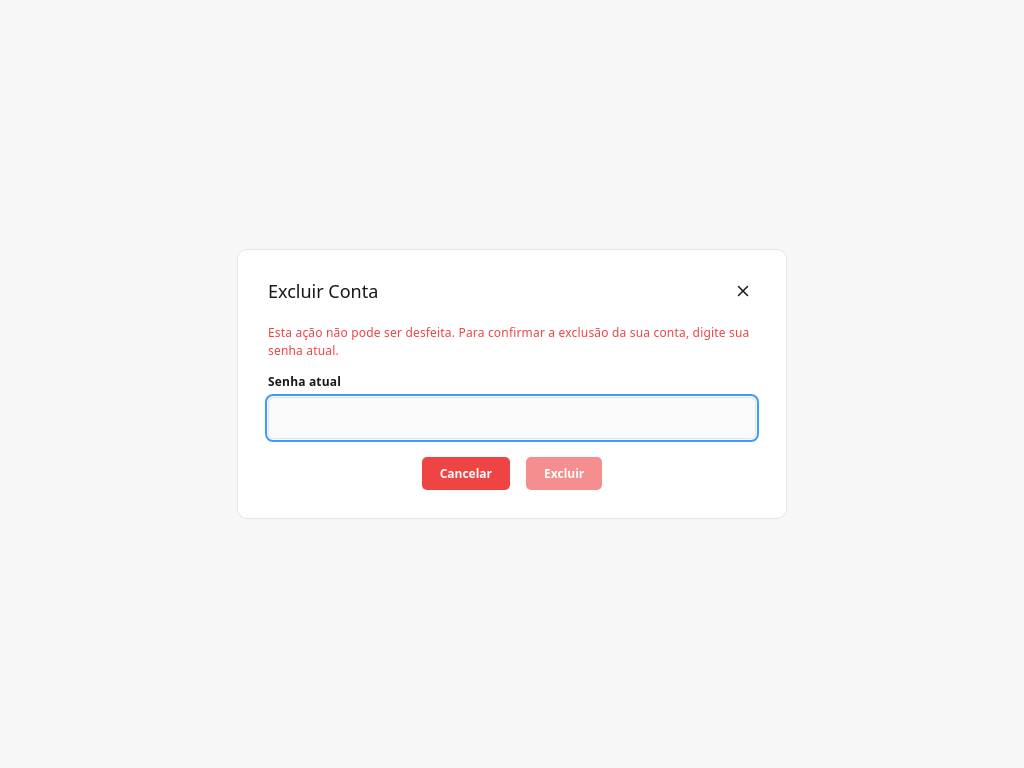
Scenario: AccountActionModal › mode: excluir › exibe erro 409 (único admin) em role=alert
Step 1. Type "minhaSenha" into the password field labelled "Senha atual" → (512, 418), box [268,397,756,439]
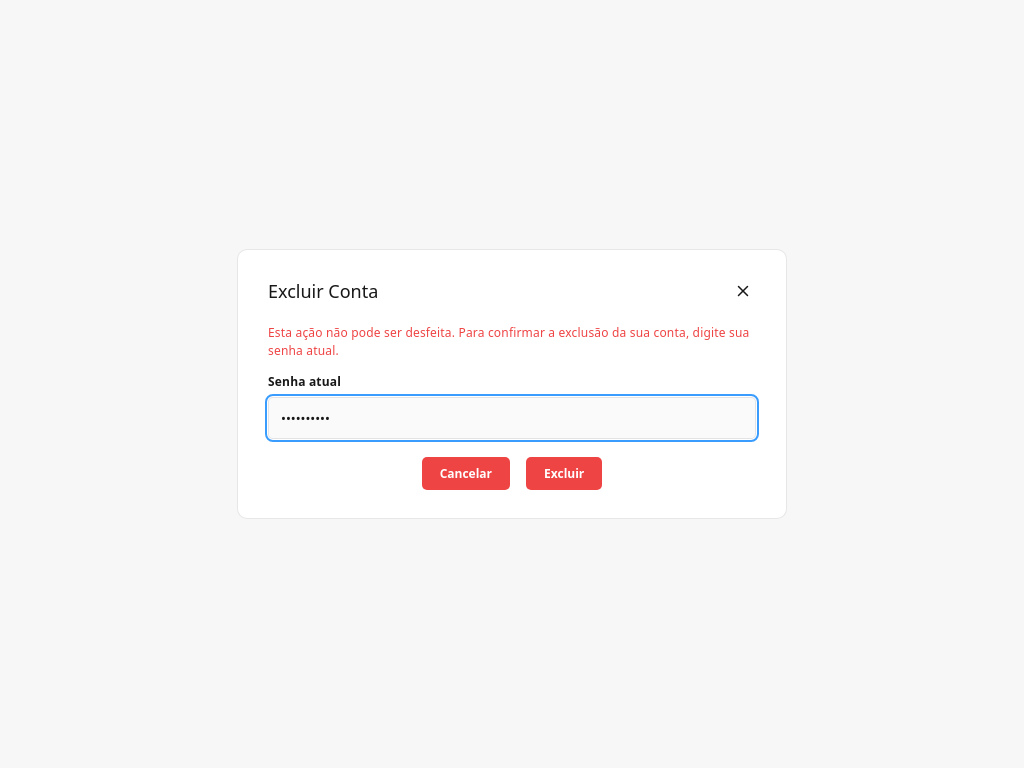
Step 2. Click the button "Excluir" → (564, 473), box [526,457,602,490]
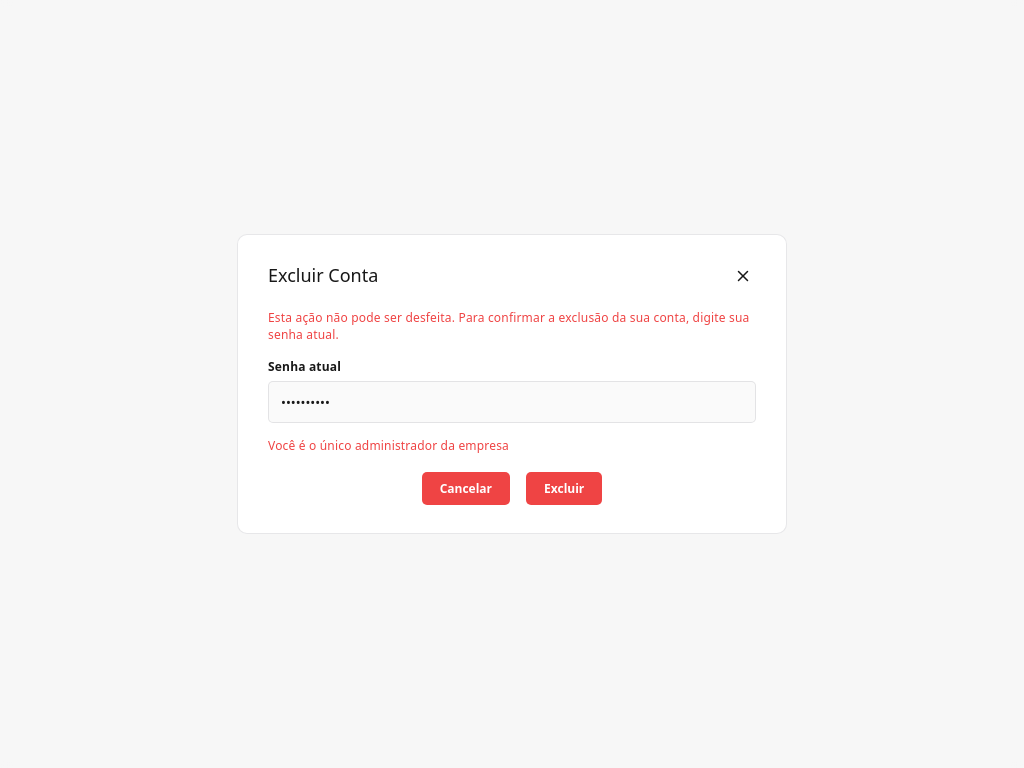
Check: the message shows "único administrador da empresa", box [268,437,509,454]
